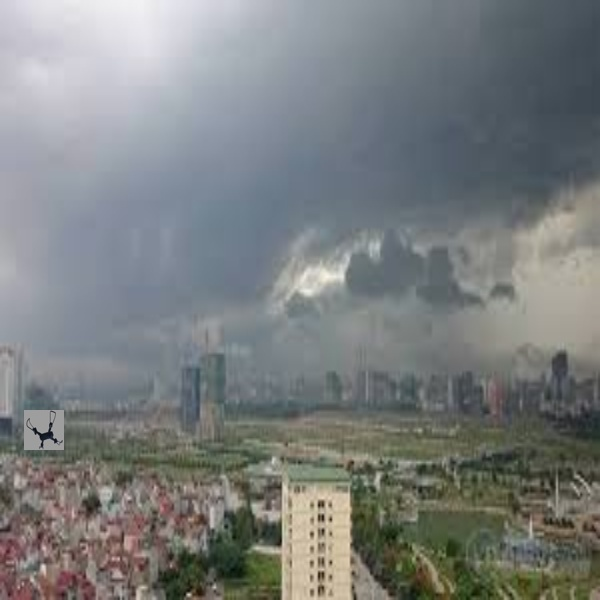drone: (21, 409, 68, 452)
